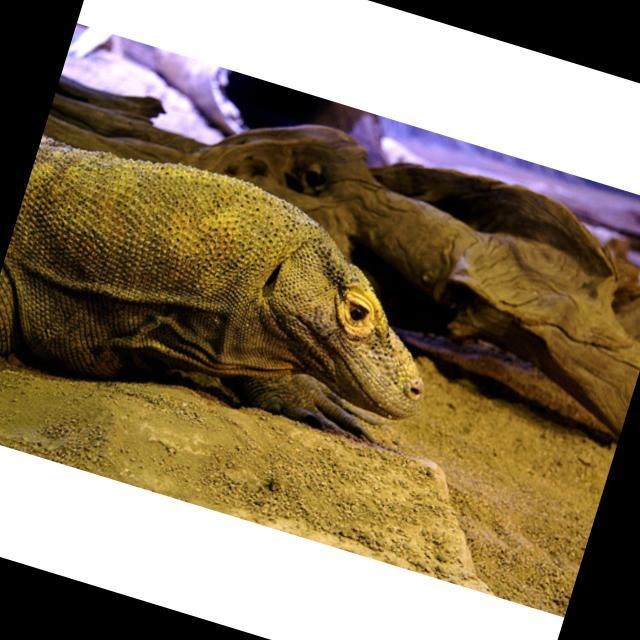KomodoDragon: (0, 117, 471, 488)
